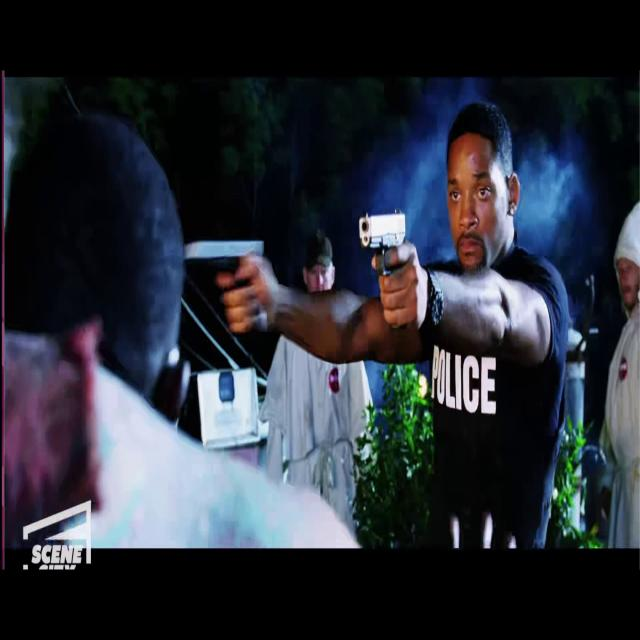weapons: (187, 225, 269, 334), (354, 195, 415, 334)
